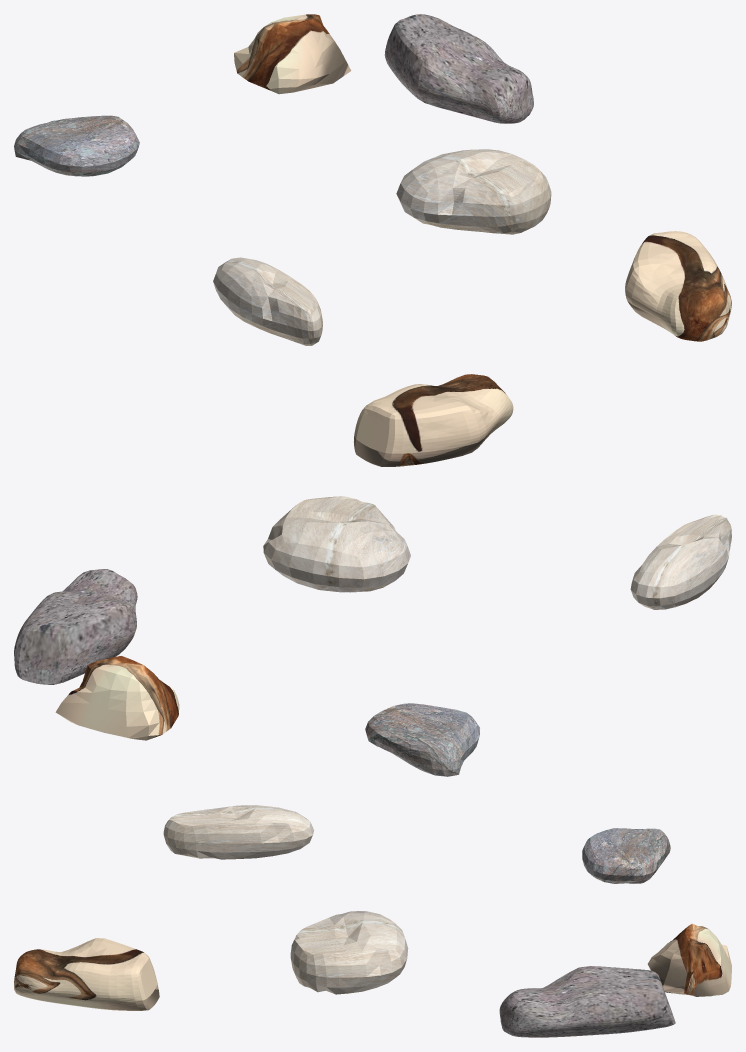
File: stones3.dae
3 renders of one model, top to bottom at view 1: azimuth 30°, elevation 25°; view 2: azimuth 150°, elevation 25°; view 3: azimuth 270°, elevation 25°, orthographic. The views are drawn at different scales.
Parts seen in each view (by area): view 1: ___DUMMY_Group01, Box13, Box04; view 2: ___DUMMY_Group01, Box04, Box13; view 3: ___DUMMY_Group01, Box13, Box04.
Boxes of the visible parts, x1,y1,x2,y2 form: ___DUMMY_Group01: (14, 14, 551, 345); Box13: (384, 14, 533, 123); Box04: (625, 231, 731, 341); ___DUMMY_Group01: (55, 496, 731, 776); Box04: (354, 374, 513, 466); Box13: (14, 569, 137, 684); ___DUMMY_Group01: (163, 805, 731, 996); Box13: (499, 966, 675, 1037); Box04: (14, 938, 159, 1010).
Bounding box in the file's own units: 1.71 × 2.62 × 0.2089.
